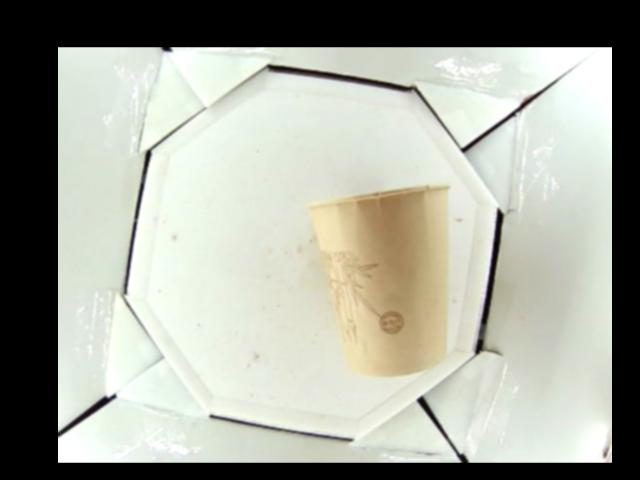Cup: (309, 184, 450, 376)
